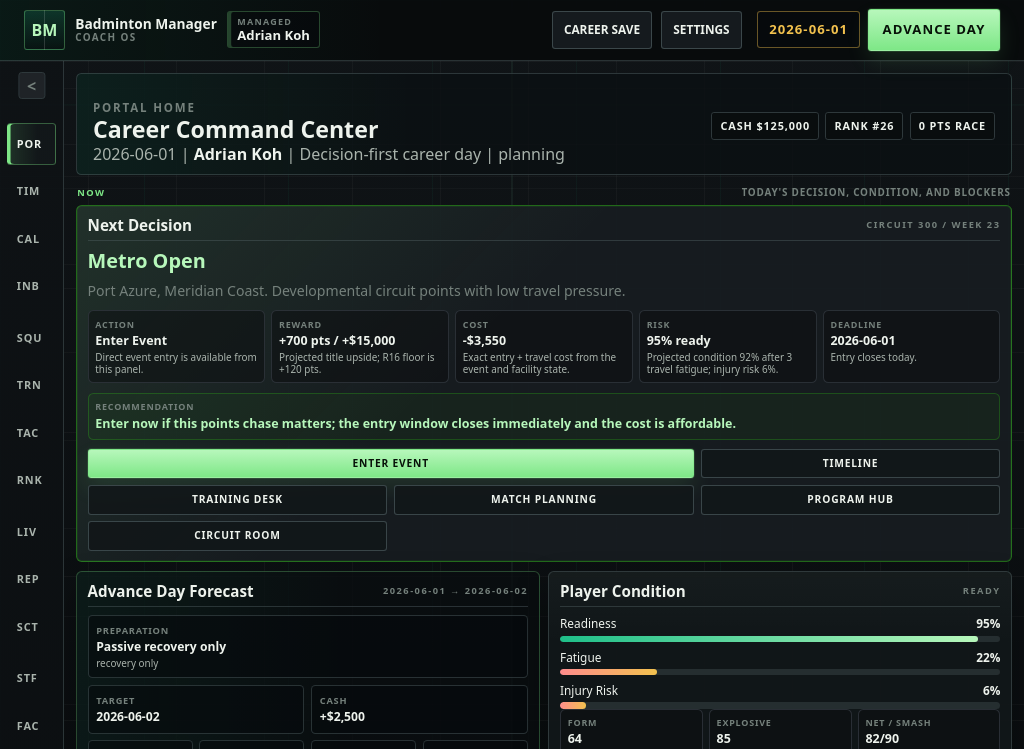
career shell daily action › routes Timeline and Calendar sidebar shortcuts into standalone pages
What coordinates should you click on to do the following:
click the button named "Timeline"
I would click on:
 (32, 191)
Its box is [7,170,56,212].
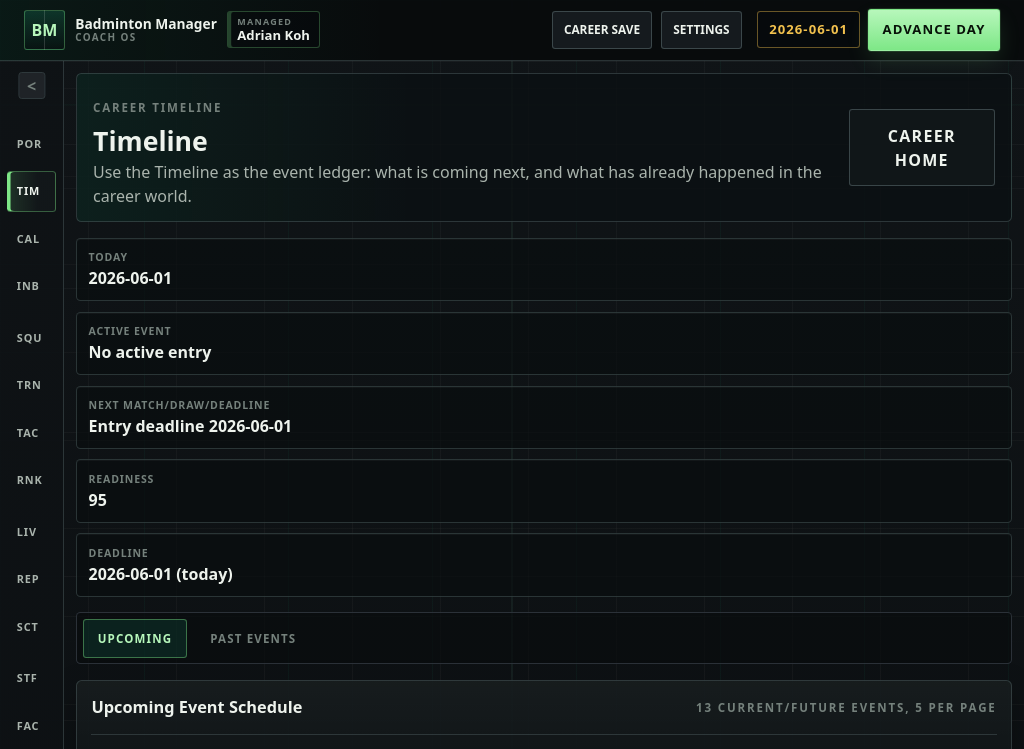
Now the heading "Timeline" is shown, box [93,123,208,159]
Now the tabs read "Upcoming", "Past Events", in this order, box [83,619,187,658]; [195,619,311,658]
Now the heading "Upcoming Event Schedule" is shown, box [91,695,302,720]
What coordinates should you click on to do the following:
click the button named "Calendar"
I would click on:
 (32, 239)
Its box is [7,218,56,260].
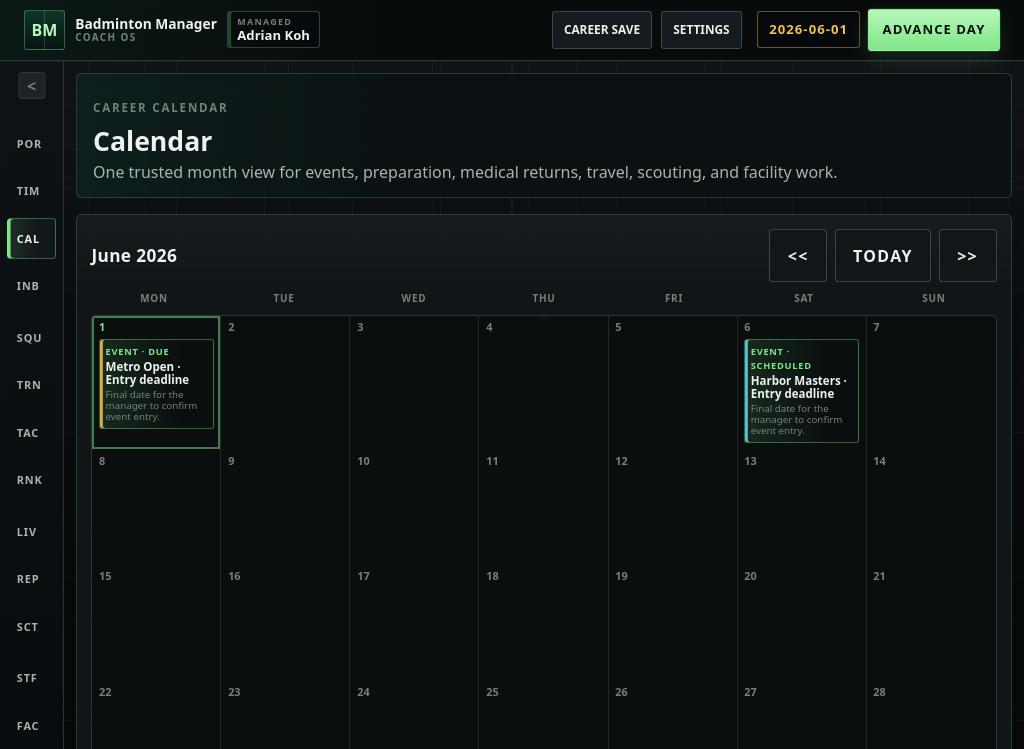
Now the heading "Calendar" is shown, box [93,123,212,159]
Now the text "Timeline" is gone
